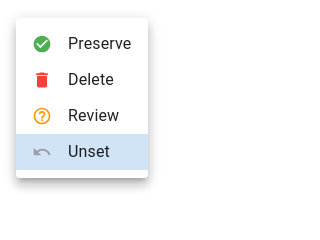
Scenario: StatusActionMenu › stays open and shows why when a write is rejected
The width and height of the screenshot is (320, 240).
What coordinates should you click on to do the following:
click the menu item "Delete"
I would click on:
 (73, 80)
Its box is [32,70,114,90].
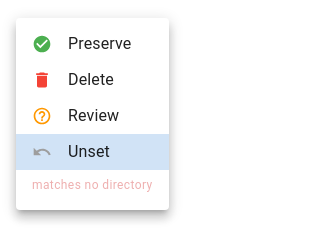
expect the text "matches no directory" is shown: met, box [32,176,153,196]
